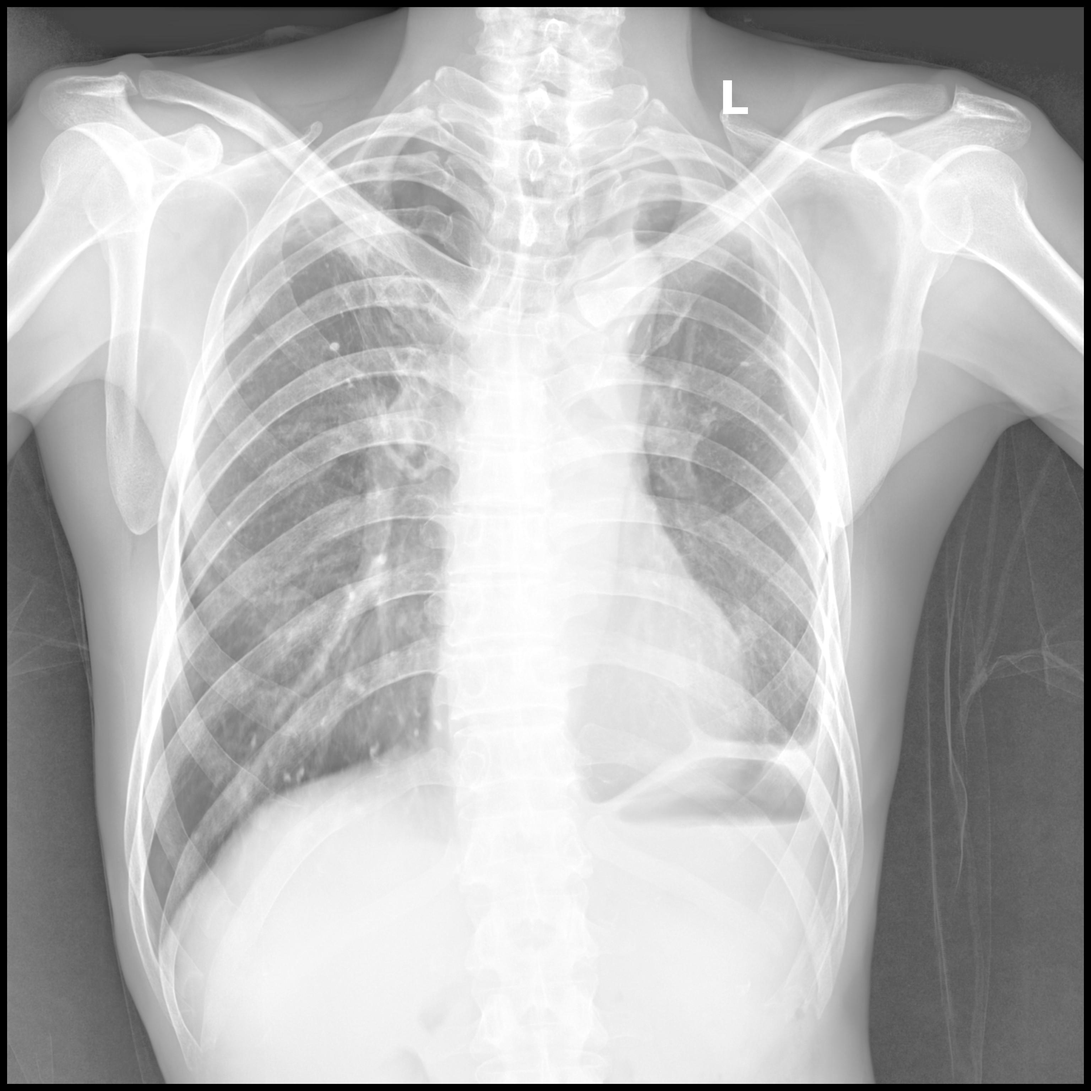Aortic enlargement: (548, 233, 663, 351)
Pleural thickening: (666, 695, 718, 743)
Pulmonary fibrosis: (321, 261, 431, 408)
